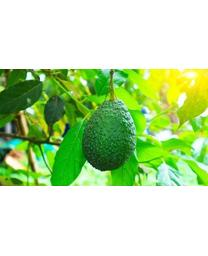avocado: (81, 98, 137, 172)
